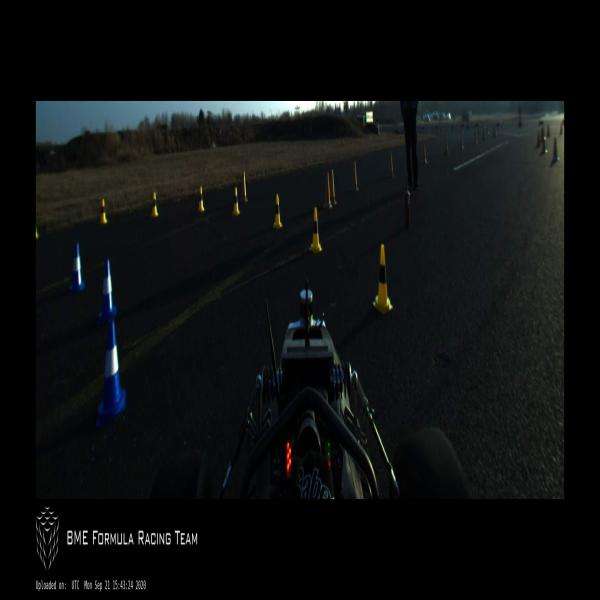blue_cone: (97, 319, 126, 423), (99, 258, 116, 323), (69, 242, 85, 292)
unknown_cone: (324, 171, 332, 208), (330, 168, 337, 205)
yellow_cone: (373, 245, 393, 314), (310, 208, 322, 253), (273, 194, 283, 228), (100, 199, 108, 224), (233, 187, 240, 215), (198, 187, 204, 211), (152, 192, 158, 216)
